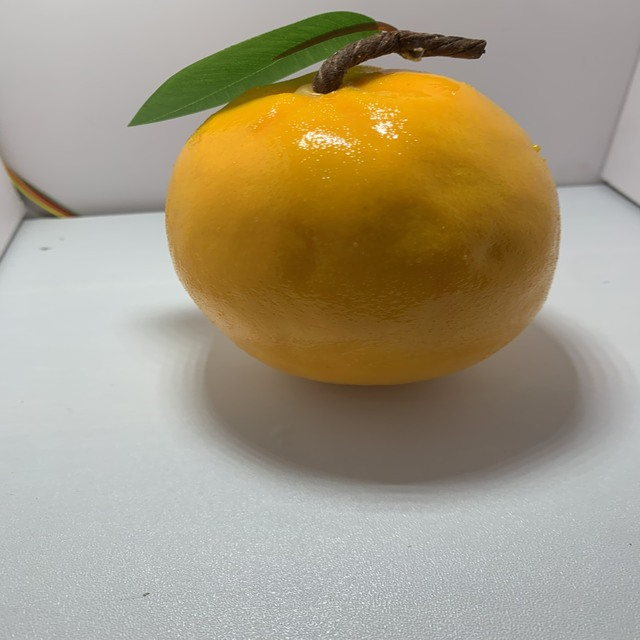Cam vang: (164, 11, 570, 398)
